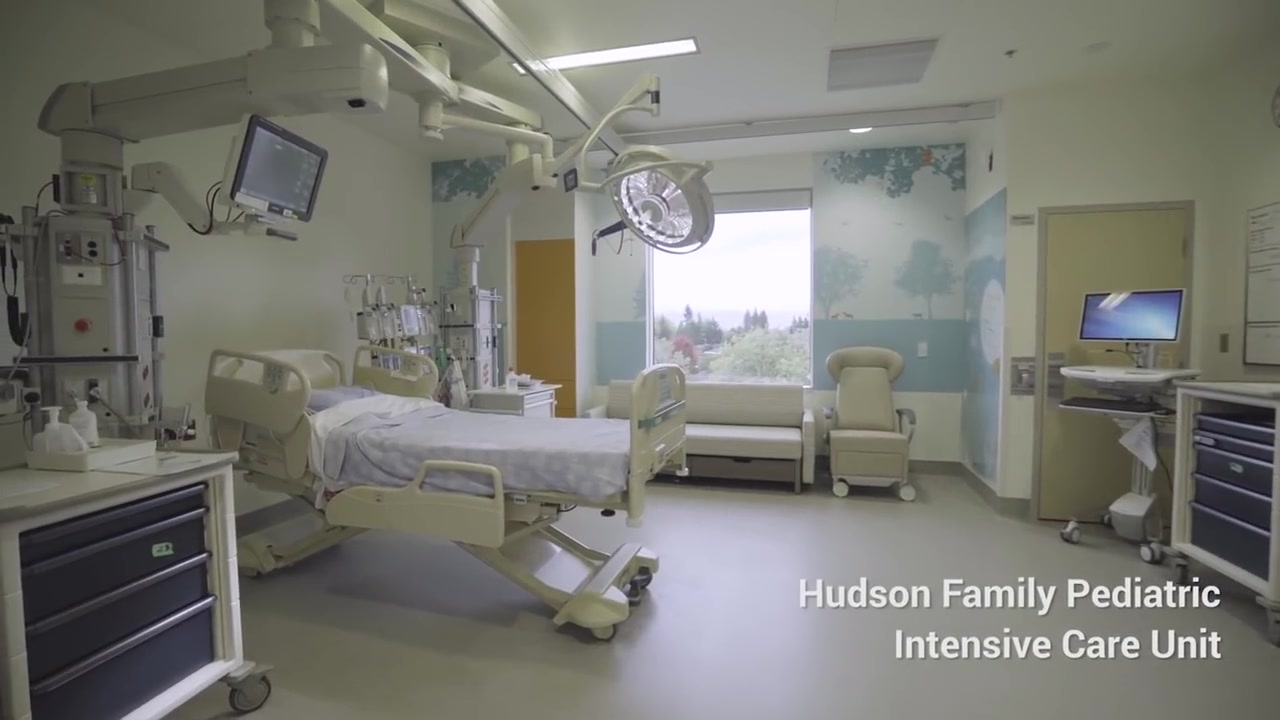bedrail: (205, 351, 308, 433), (350, 346, 437, 404), (415, 457, 506, 506)
bedside_monitor: (233, 112, 328, 226)
chair: (822, 348, 920, 502)
computer: (1080, 289, 1185, 347)
dispenser: (30, 407, 96, 471)
foot_board: (623, 363, 689, 522)
hospital_bed: (205, 344, 661, 638)
infusion_pump: (353, 307, 434, 340)
iv_pole: (351, 273, 388, 373), (388, 281, 431, 350)
keyboard: (1060, 397, 1154, 411)
medical_drawer: (1, 458, 254, 720), (1175, 381, 1280, 640), (478, 383, 564, 420)
mouse: (1157, 406, 1178, 417)
sofa: (588, 374, 817, 498)
surgical_light: (605, 142, 714, 251)
